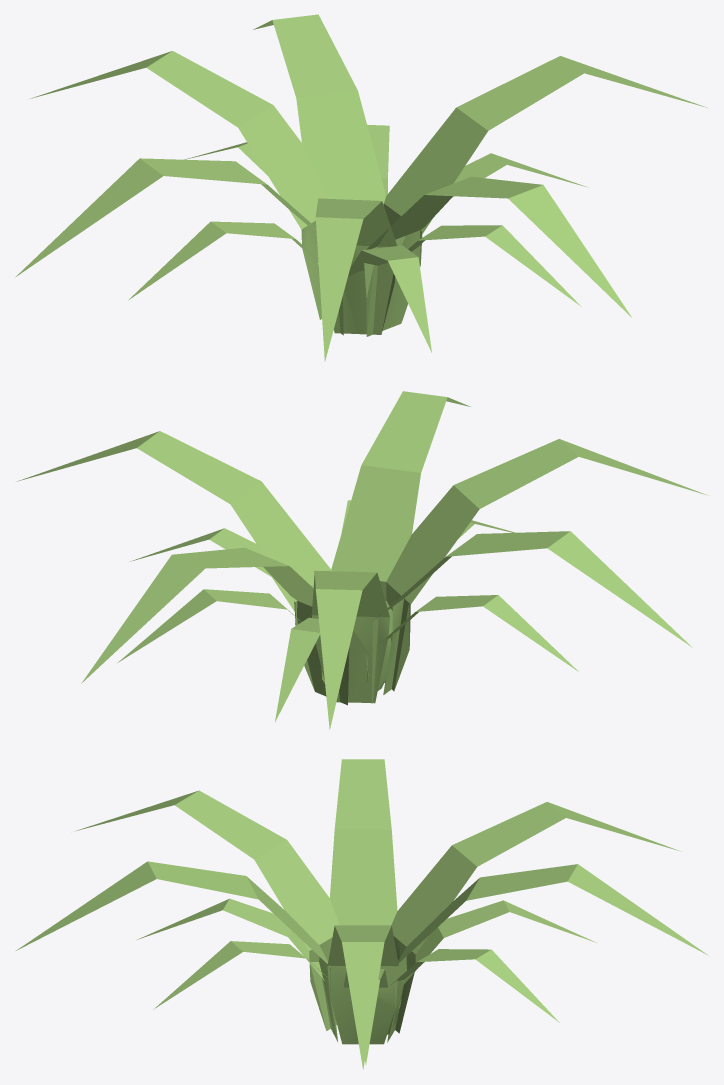
Rendered from Plant_Brush_02.fbx.
The picture shows the model from 3 angles, top to bottom: view 1: azimuth 30°, elevation 25°; view 2: azimuth 150°, elevation 25°; view 3: azimuth 270°, elevation 25°; orthographic projection. The views are drawn at different scales.
Parts seen in each view (by area): view 1: Plant_Brush_02; view 2: Plant_Brush_02; view 3: Plant_Brush_02.
Boxes of the visible parts, x1,y1,x2,y2 form: Plant_Brush_02: [15, 14, 707, 361]; Plant_Brush_02: [17, 391, 707, 729]; Plant_Brush_02: [16, 759, 708, 1069].
Bounding box in the file's own units: 68.8 × 19.24 × 66.96.
